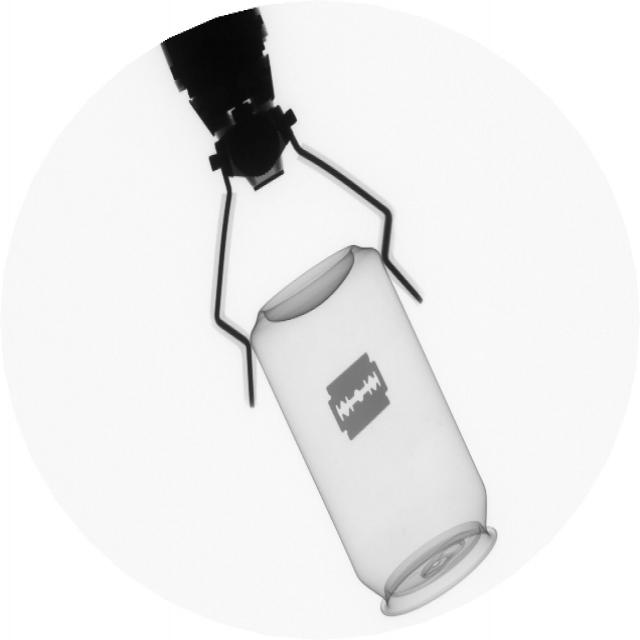BLADE: (323, 347, 392, 449)
